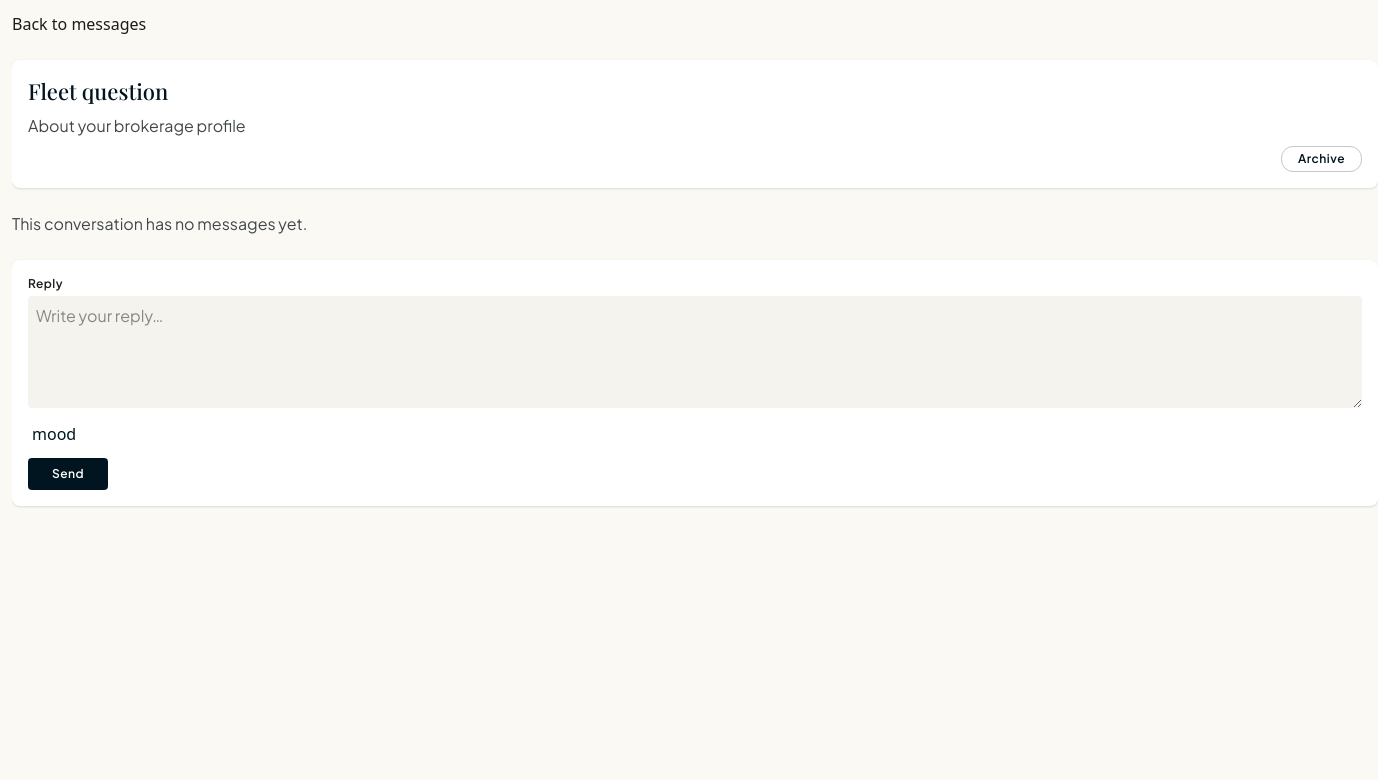
Test case: ThreadScreen › surfaces a 409 conversation_closed in the reader's language
The width and height of the screenshot is (1378, 780).
Type "Thank you, next Tuesday morning works well." into the text box labelled "Reply" at (695, 352), box [28,296,1362,408]
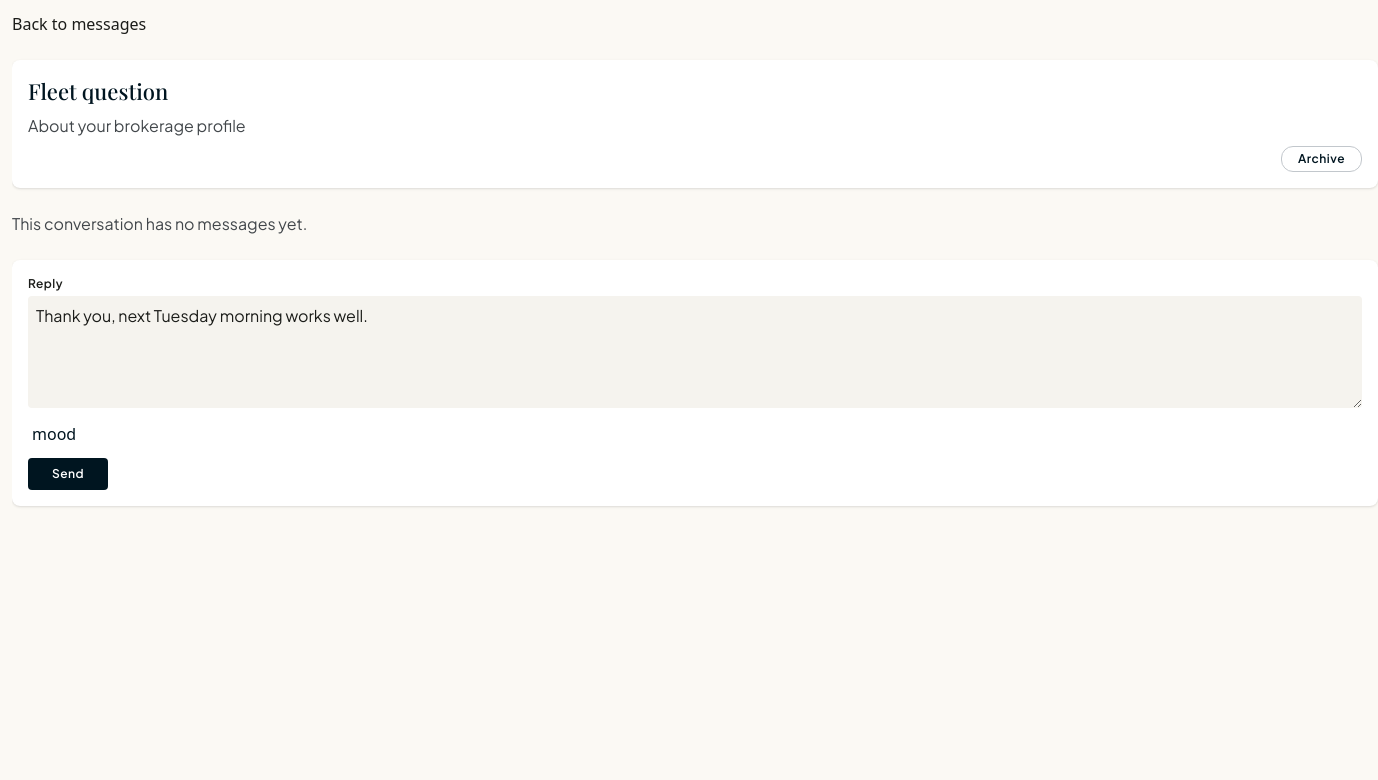
Click the button "Send" at (68, 474), box [28,458,108,490]
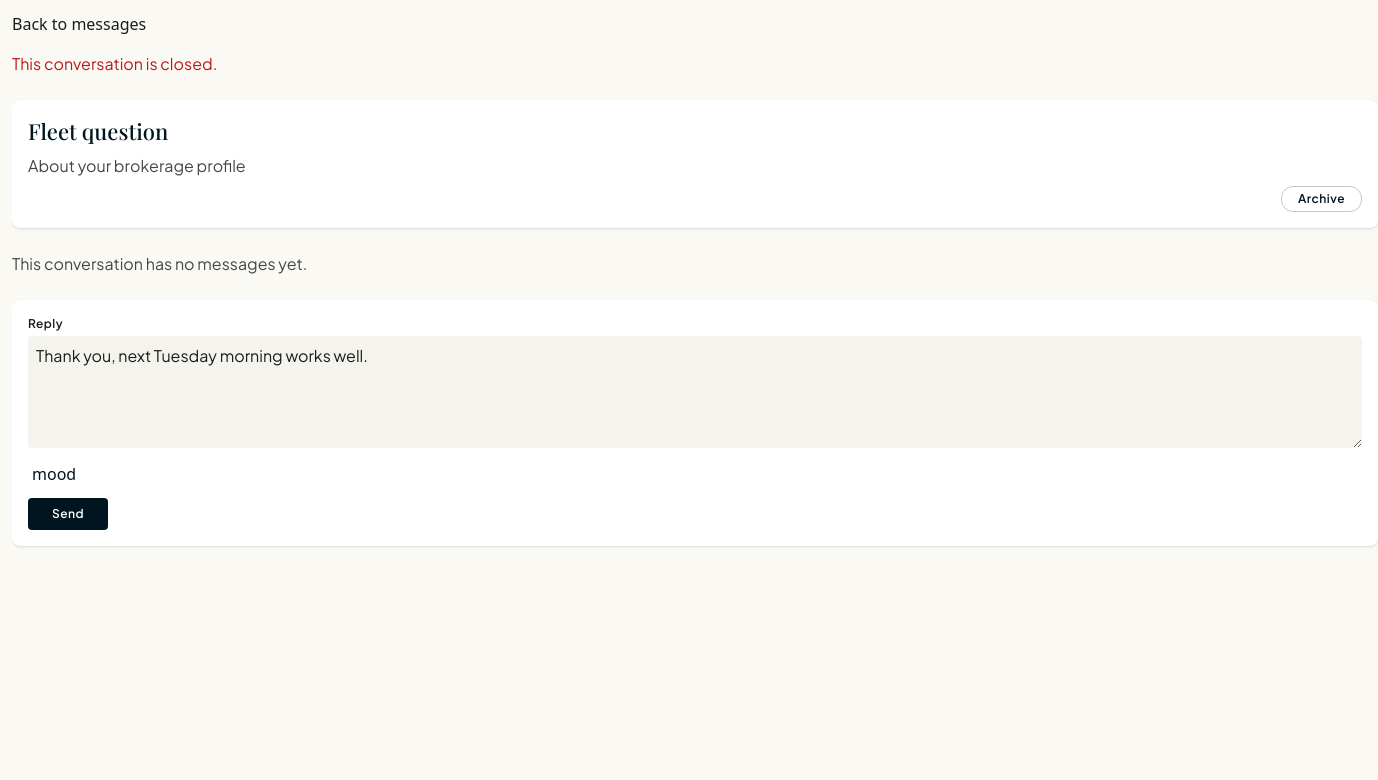
Expected: the text "This conversation is closed." is shown, [12,53,217,74]
